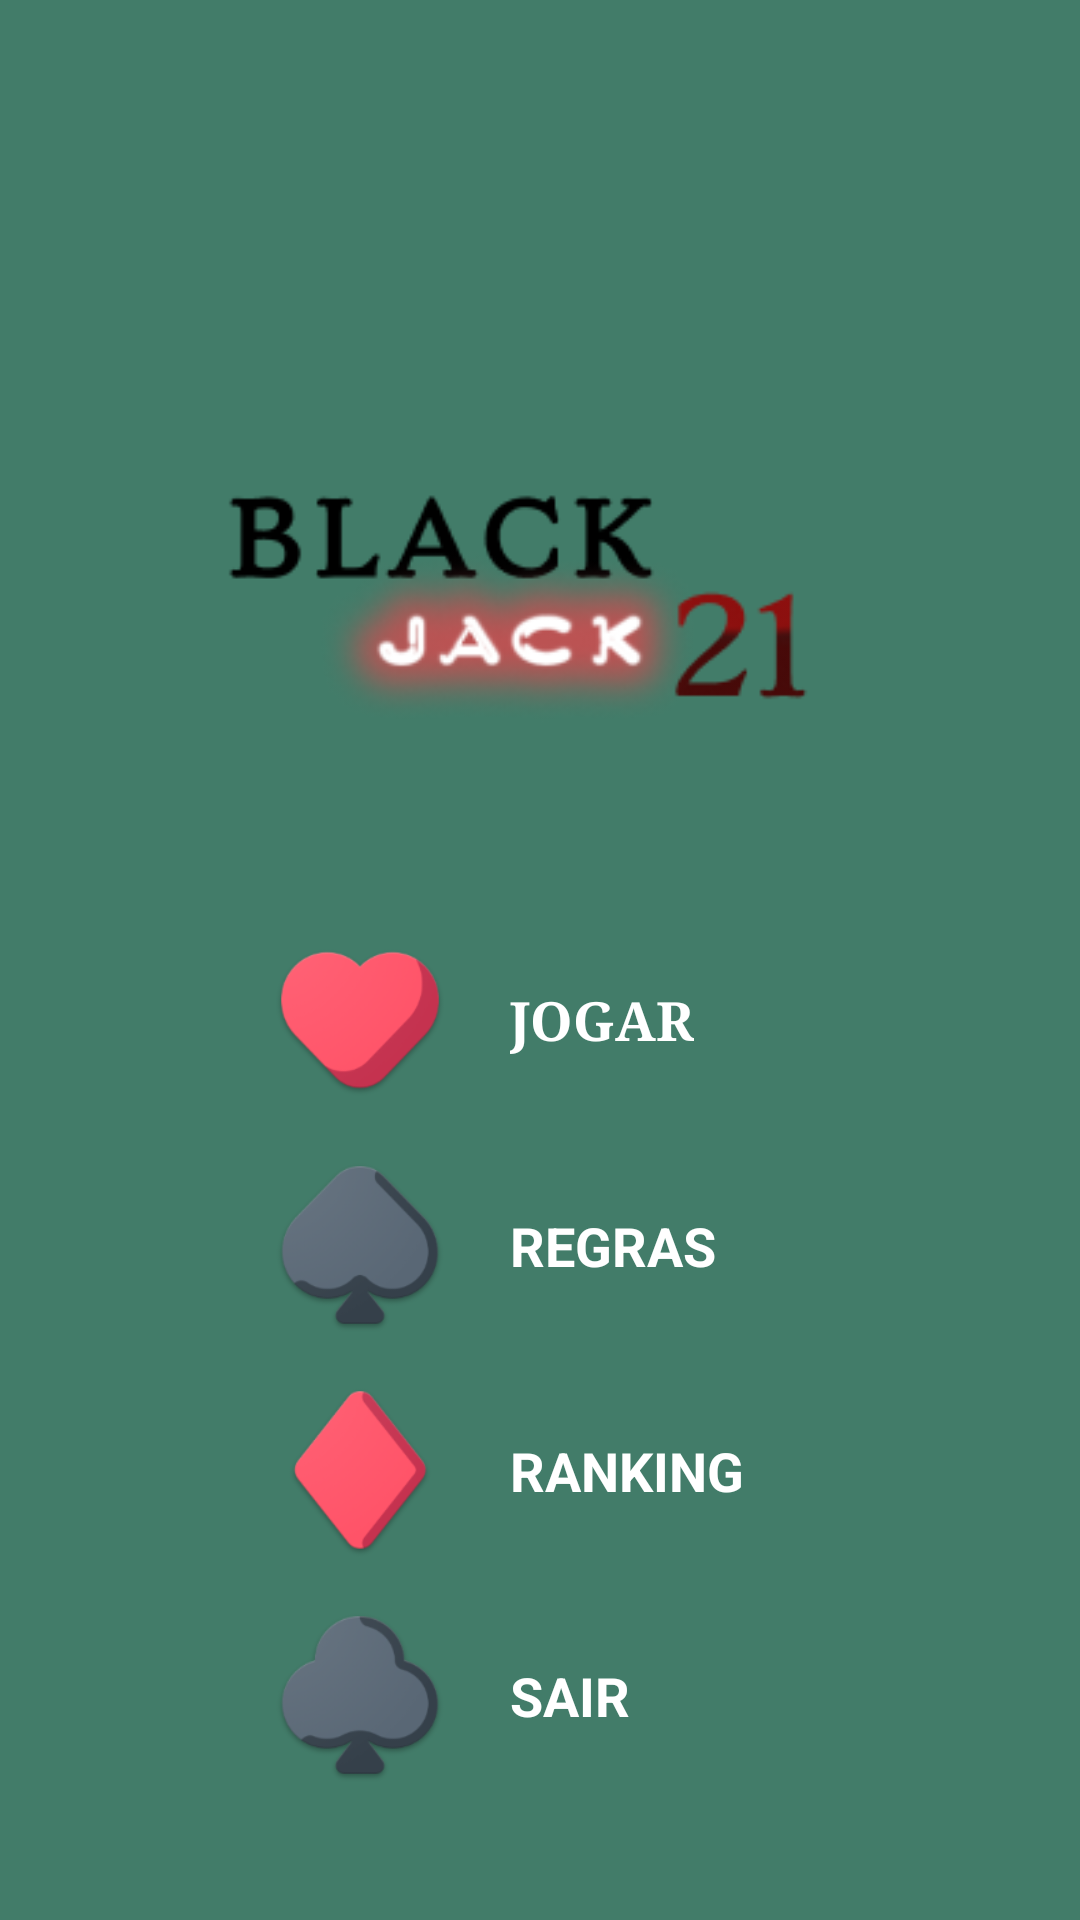

Screen size 1080px×1920px. Icon name, then its center in pixels as (x=x, y=y):
clover: (x=360, y=1695)
diamond: (x=360, y=1470)
heart: (x=360, y=1020)
spade: (x=360, y=1245)
